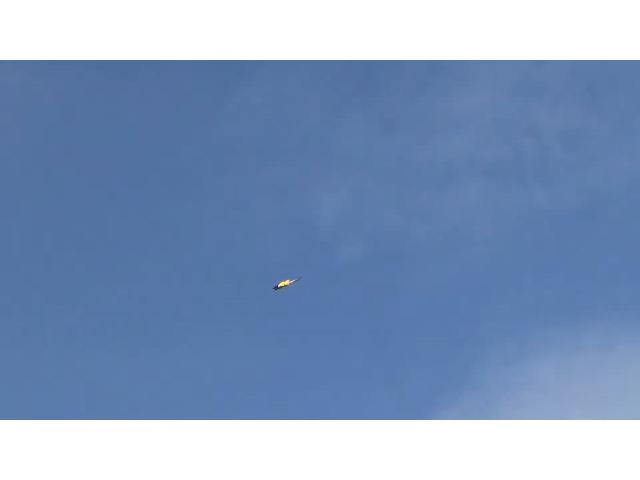Anti-Drone: (273, 277, 301, 291)
